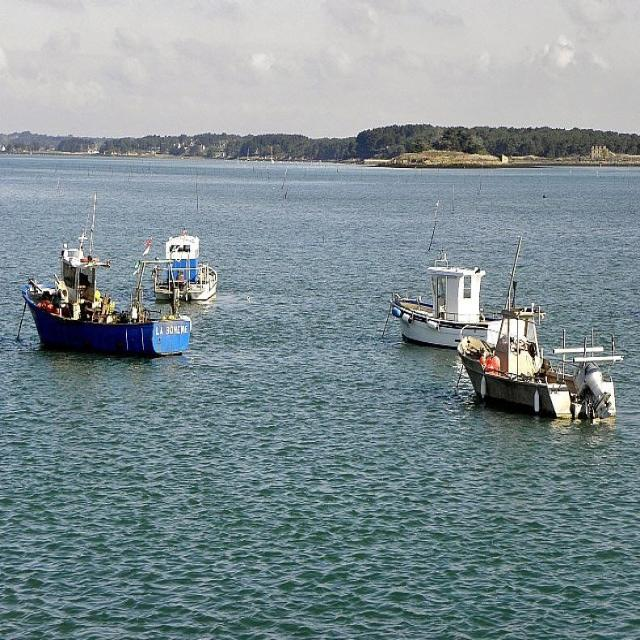fishing boat: (22, 227, 186, 351), (457, 312, 621, 416), (392, 252, 541, 342), (150, 221, 214, 305)
